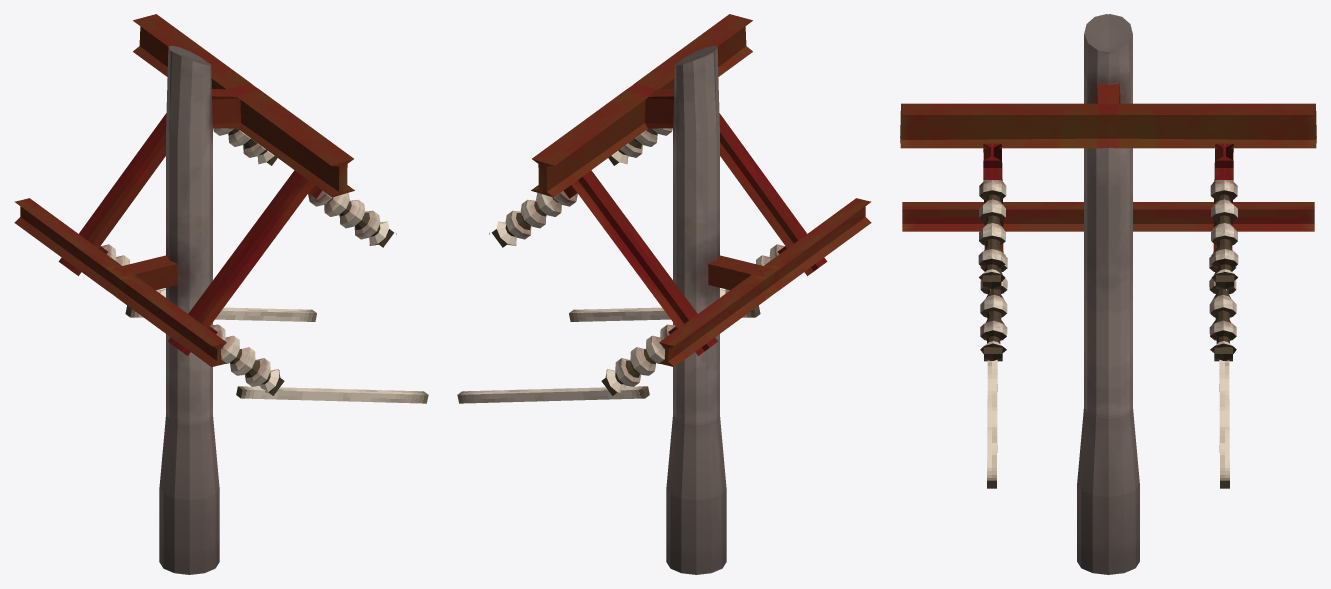
The model's file is GridBreaker_broken.obj.
3 renders of one model, left to right at view 1: azimuth 30°, elevation 25°; view 2: azimuth 150°, elevation 25°; view 3: azimuth 270°, elevation 25°, orthographic. The views are drawn at different scales.
Visible parts, largest first — view 1: main; view 2: main; view 3: main.
Boxes of the visible parts, <box> form: main: <box>14,14,428,574</box>; main: <box>457,14,871,574</box>; main: <box>900,14,1316,574</box>.
Bounding box in the file's own units: 4.29 × 8.2 × 5.75.
Materials: 3 (3 with a texture image).
